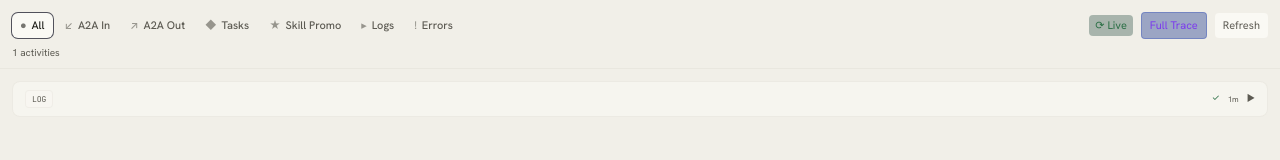
ActivityTab — row expand / collapse › clicking expanded row collapses it
The width and height of the screenshot is (1280, 160).
What coordinates should you click on to do the following:
click the button "LOG ✓ 1m ▶"
I would click on:
 (39, 98)
Its box is top-left (13, 82), bottom-right (1267, 116).
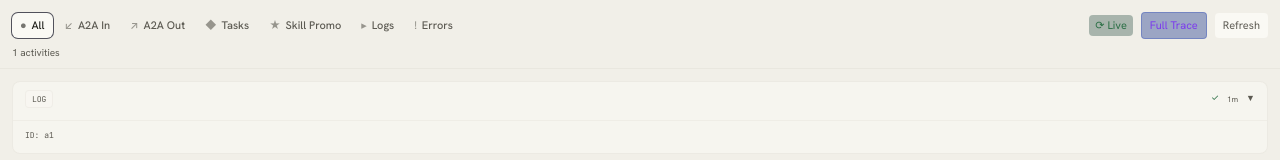
What coordinates should you click on to do the following:
click the button "LOG ✓ 1m ▼"
I would click on:
 (39, 98)
Its box is top-left (13, 82), bottom-right (1267, 116).
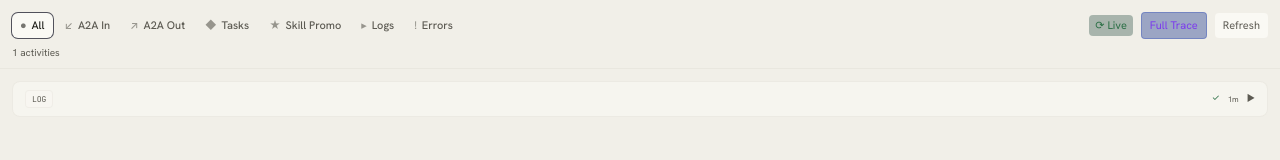
Check: the text "▶" is shown, box top-left (1247, 92), bottom-right (1255, 105)
